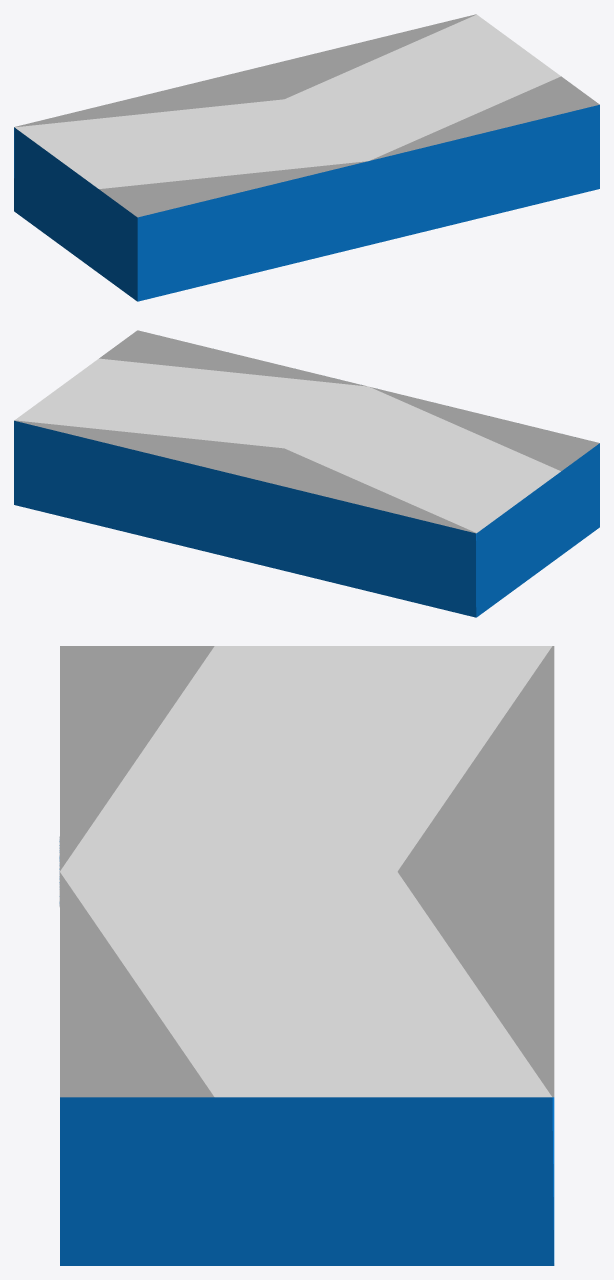
File: tek.fbx
The picture shows the model from 3 angles, top to bottom: view 1: azimuth 30°, elevation 25°; view 2: azimuth 150°, elevation 25°; view 3: azimuth 270°, elevation 25°; orthographic projection. The views are drawn at different scales.
Parts seen in each view (by area): view 1: polySurface90; view 2: polySurface90; view 3: polySurface90.
Boxes of the visible parts, x1,y1,x2,y2 form: polySurface90: [14, 14, 599, 301]; polySurface90: [14, 330, 599, 617]; polySurface90: [59, 646, 554, 1265].
Size of the model in its own units: 224 by 38.92 by 103.
